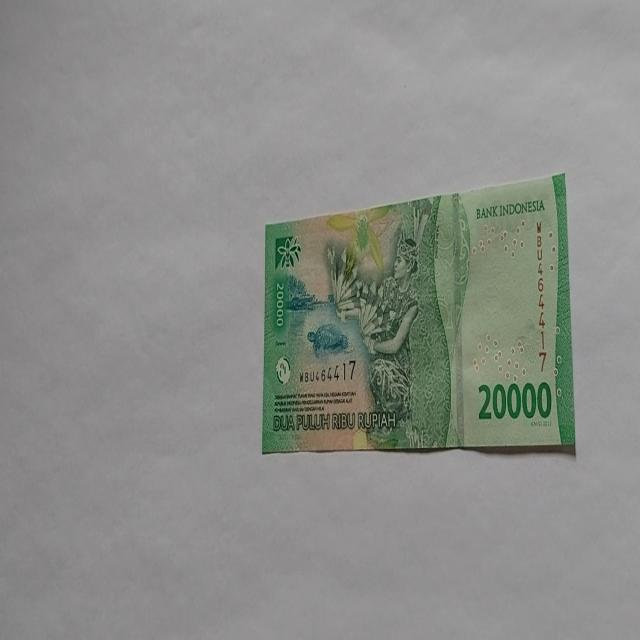dua puluh ribu rupiah: (262, 171, 576, 457)
